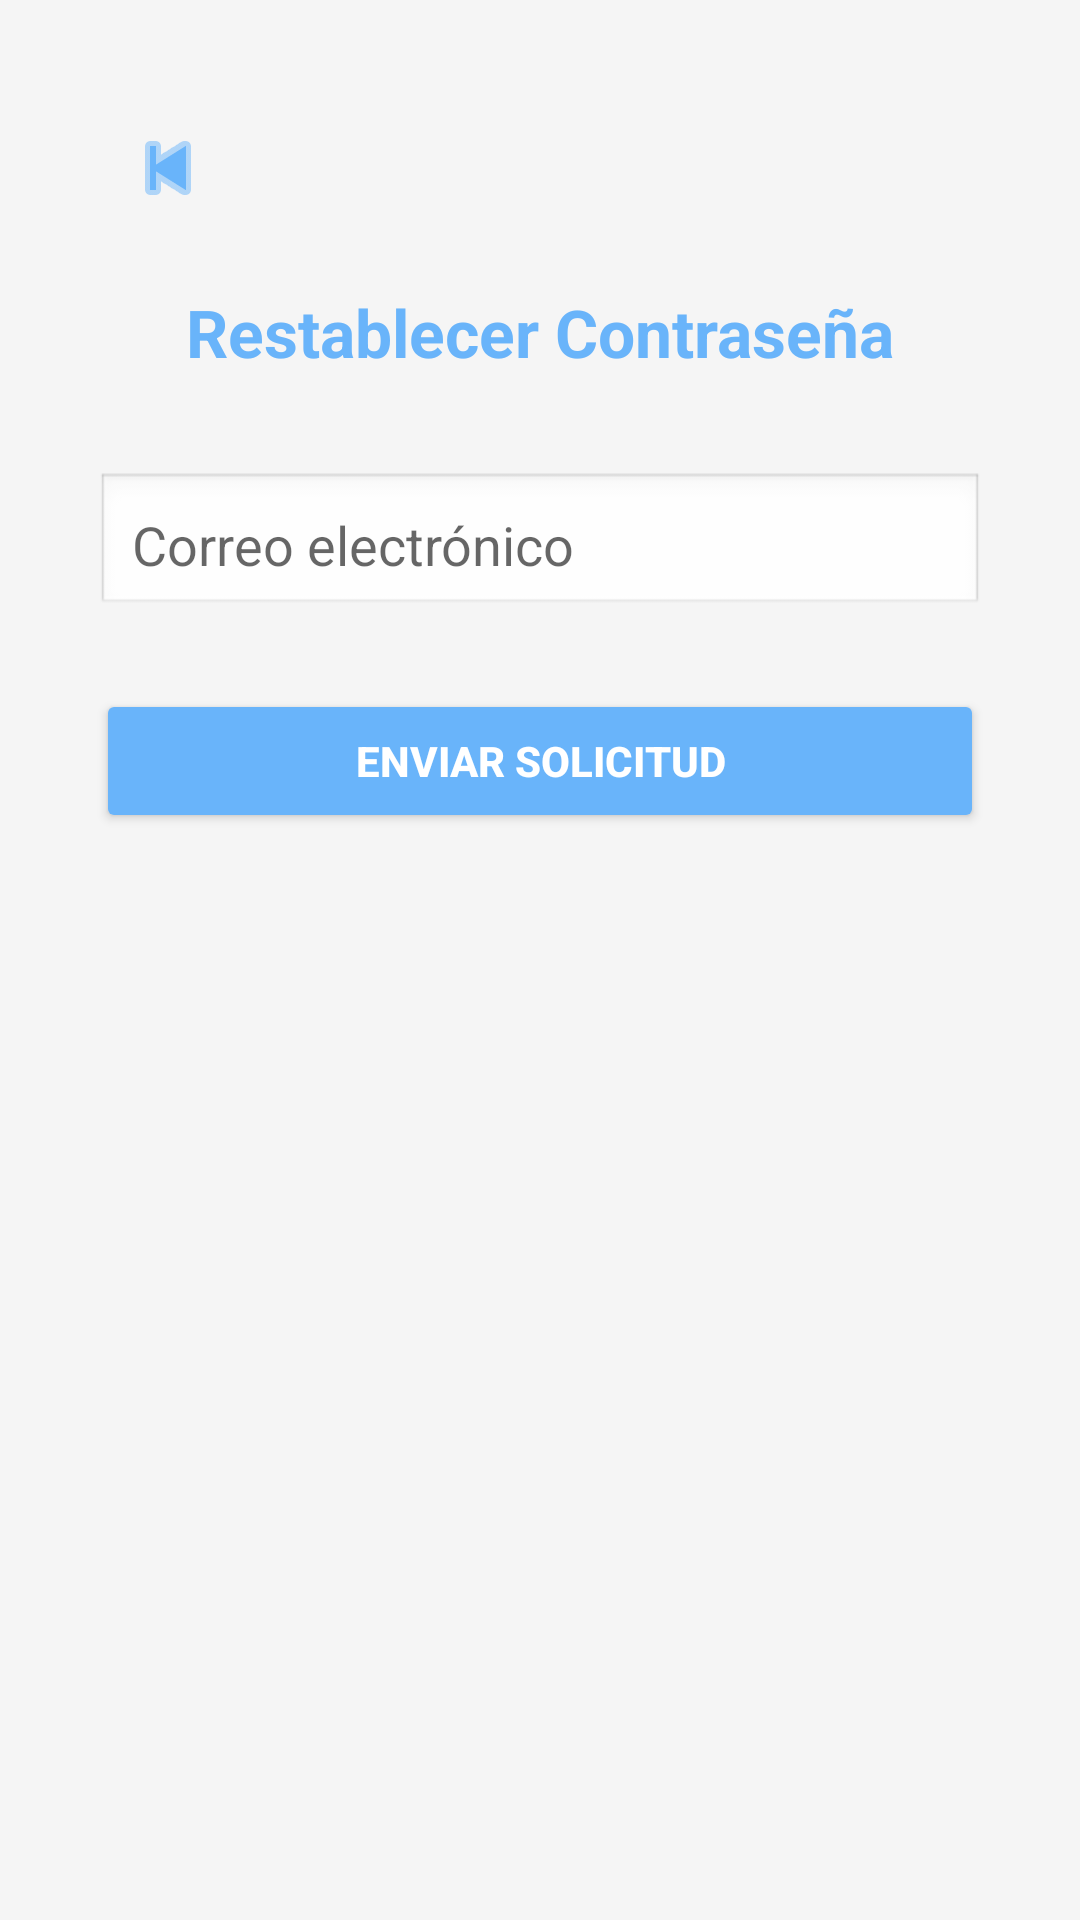

Screen size 1080×1920. Icon name, then its center in pixels as point (x, y):
Regresar: point (168, 168)
